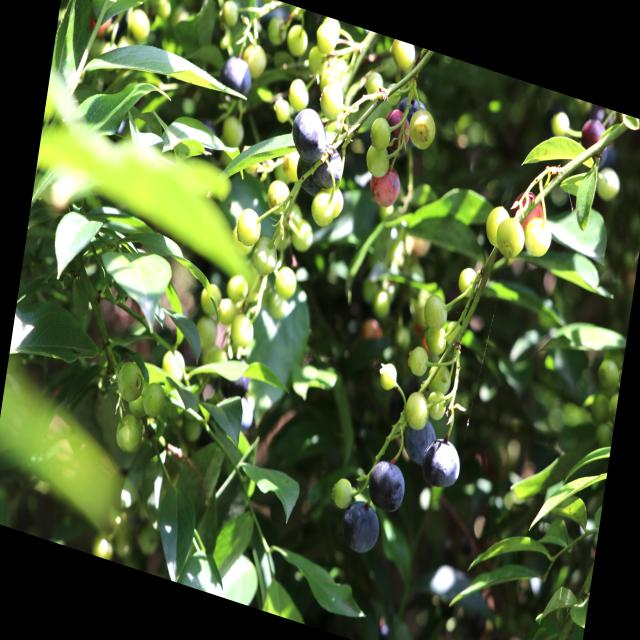blueberry: (335, 491, 385, 560), (416, 431, 466, 497), (286, 101, 332, 169), (363, 452, 410, 518), (400, 410, 440, 470), (390, 93, 428, 151), (216, 49, 256, 103), (308, 136, 346, 192), (218, 349, 254, 406), (291, 156, 326, 200)
blueberry-halfripe: (367, 160, 403, 210), (510, 185, 546, 227), (385, 107, 411, 153)
blueberry-unripe: (310, 179, 344, 231), (495, 211, 528, 261), (113, 404, 146, 452), (520, 215, 554, 260), (116, 358, 147, 405), (483, 200, 512, 250), (251, 234, 280, 278), (235, 206, 263, 250), (422, 291, 450, 334), (403, 388, 431, 430), (318, 79, 346, 121), (265, 176, 291, 219), (141, 378, 167, 421), (424, 362, 454, 398), (230, 312, 257, 352), (454, 262, 480, 301), (365, 138, 390, 178), (422, 322, 448, 358), (368, 112, 392, 150), (405, 344, 430, 379), (274, 264, 298, 298), (331, 473, 353, 508), (226, 272, 249, 305), (424, 391, 448, 422), (378, 362, 399, 392)
